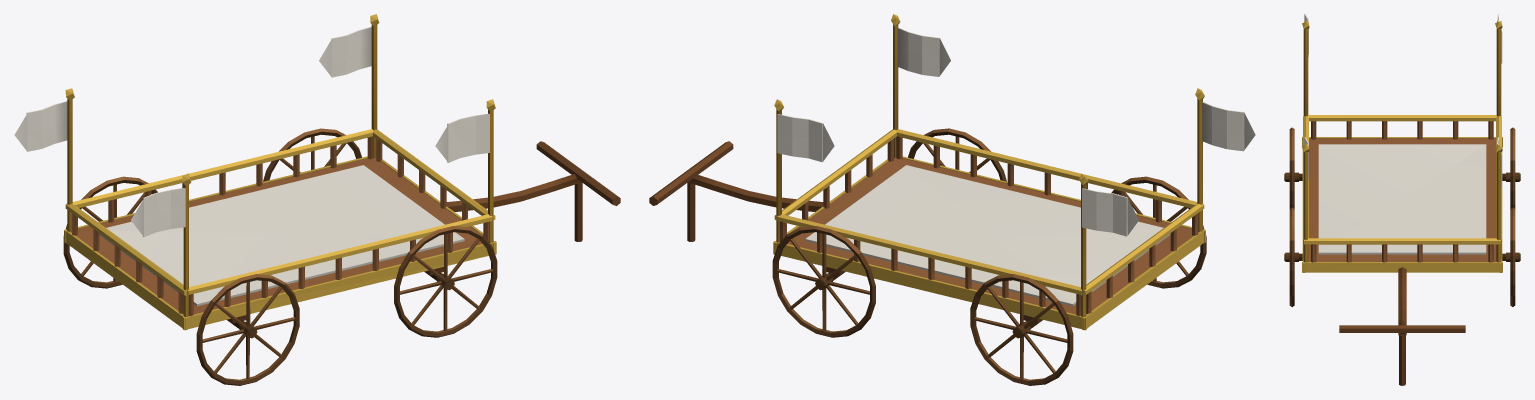
3 renders of one model, left to right at view 1: azimuth 30°, elevation 25°; view 2: azimuth 150°, elevation 25°; view 3: azimuth 270°, elevation 25°, orthographic. The views are drawn at different scales.
Visible parts, largest first — view 1: base; view 2: base; view 3: base.
Part boxes in pixels (x1,y1,x2,y2): base: (14,14,620,385); base: (649,14,1255,385); base: (1284,14,1520,385).
Size of the model in its own units: 2.48 by 1.02 by 1.2.
